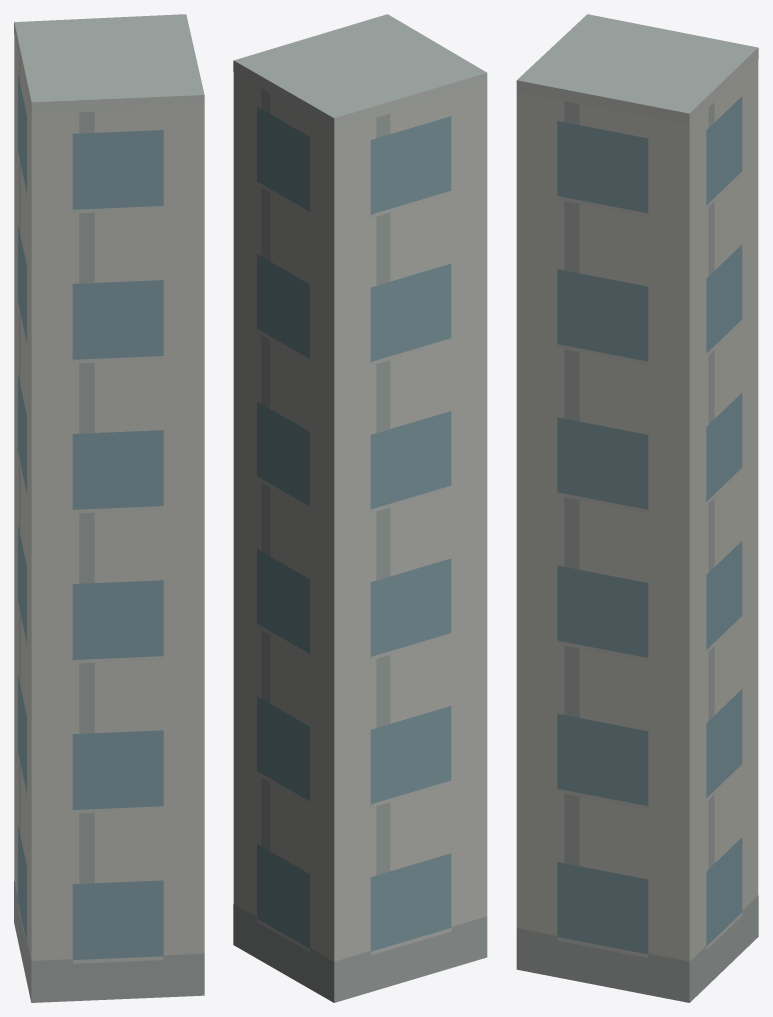
File: survey-upis-32738554.glb
The picture shows the model from 3 angles, left to right: view 1: azimuth 30°, elevation 25°; view 2: azimuth 150°, elevation 25°; view 3: azimuth 270°, elevation 25°; orthographic projection.
Visible parts, largest first — view 1: survey-upis-32738554.tmp; view 2: survey-upis-32738554.tmp; view 3: survey-upis-32738554.tmp.
Part boxes in pixels (x1=…): survey-upis-32738554.tmp: x1=14, y1=14, x2=204, y2=1002; survey-upis-32738554.tmp: x1=233, y1=14, x2=487, y2=1002; survey-upis-32738554.tmp: x1=516, y1=14, x2=758, y2=1002.
Bounding box in the file's own units: 4.4 × 18.3 × 4.52.
